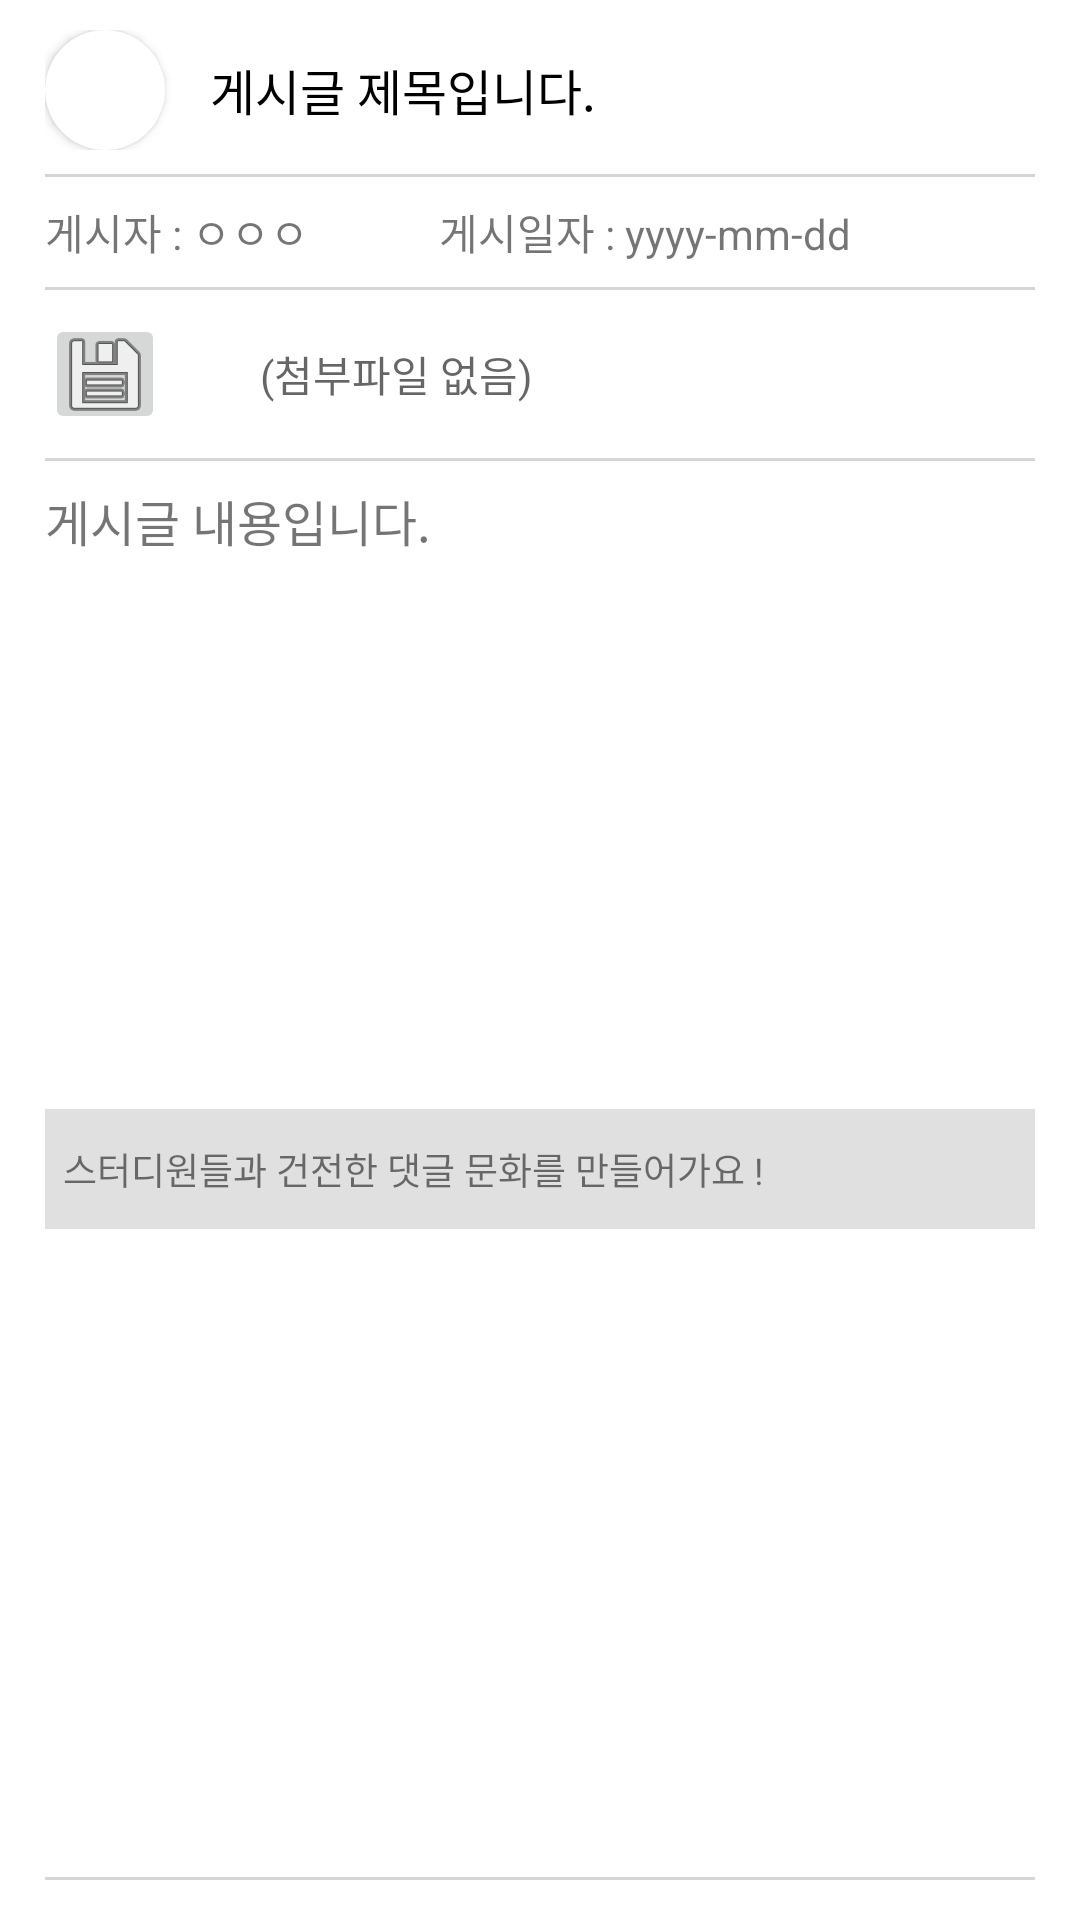

Icon click points for this 1080w x 1920h phone screenshot, format [x,y]:
save: [105,374]
